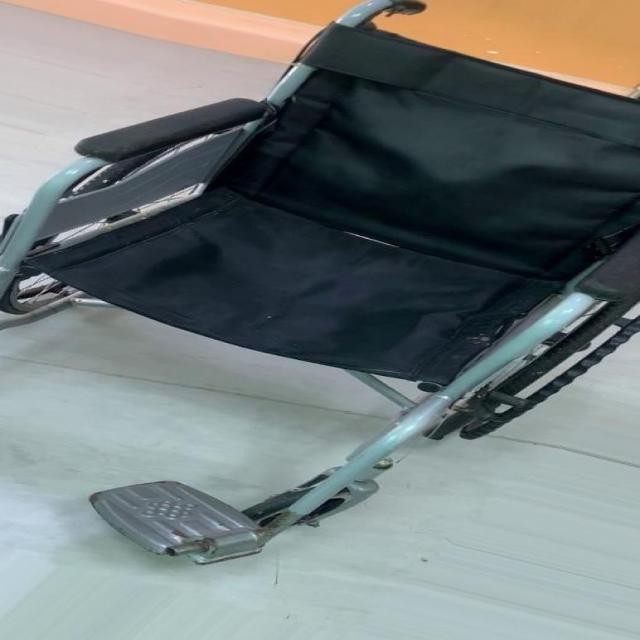wheelchair: (0, 4, 640, 564)
